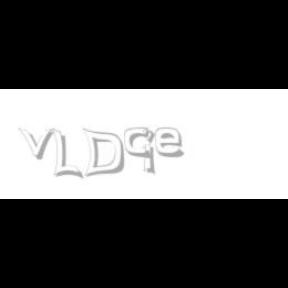D: (82, 128, 124, 178)
L: (52, 128, 80, 180)
c: (124, 128, 153, 160)
e: (156, 128, 188, 158)
i: (143, 128, 159, 176)
v: (18, 128, 58, 160)
